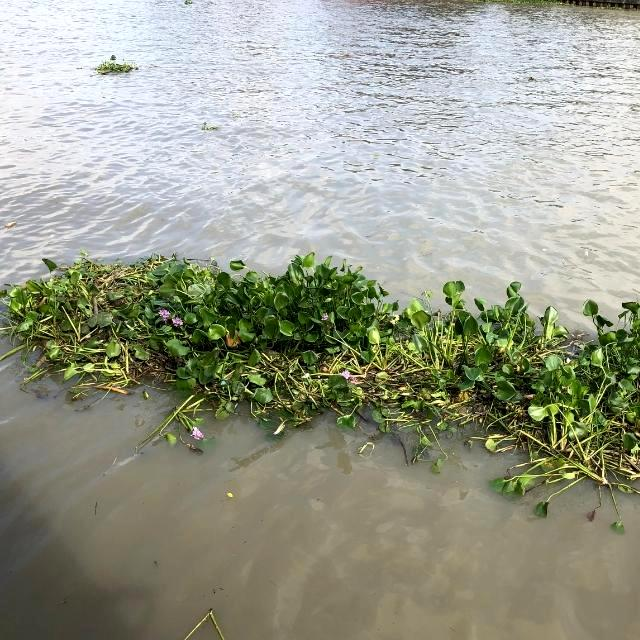water-hyacinth: (1, 209, 640, 490), (90, 63, 139, 75)
